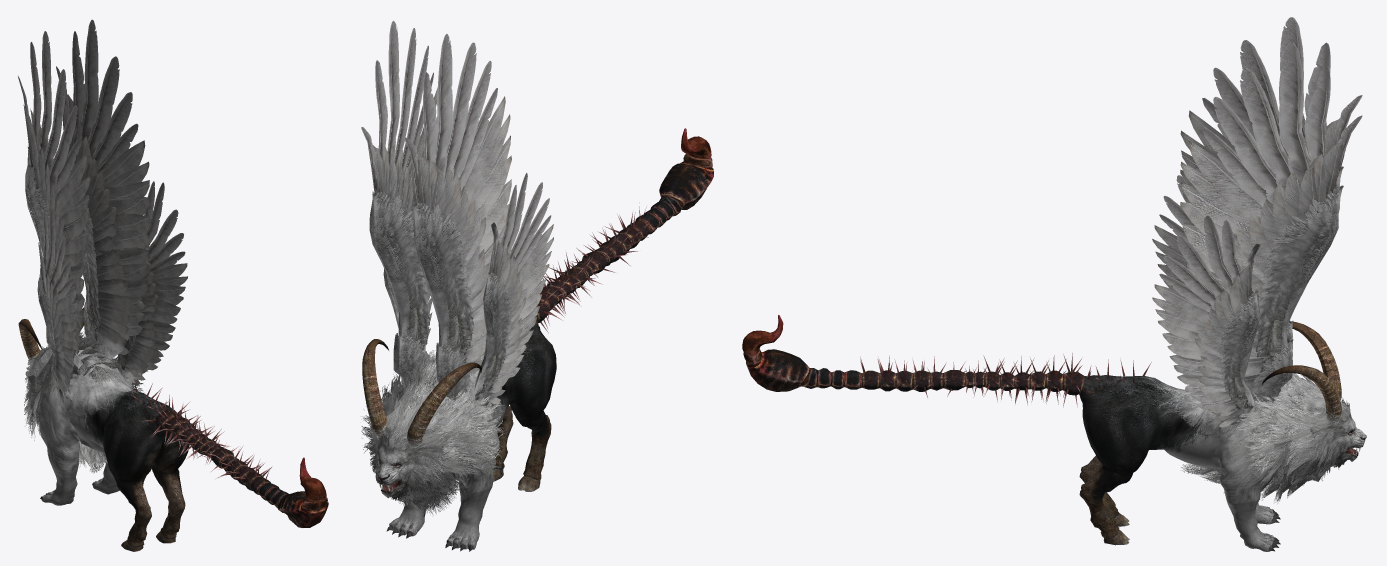
The model's file is guardian.obj.
The picture shows the model from 3 angles, left to right: view 1: azimuth 30°, elevation 25°; view 2: azimuth 150°, elevation 25°; view 3: azimuth 270°, elevation 25°; orthographic projection. The views are drawn at different scales.
Visible parts, largest first — view 1: mesh14, mesh15, mesh16, mesh0, mesh9, mesh2; view 2: mesh15, mesh14, mesh0, mesh16, mesh9, mesh1, mesh13, mesh2, mesh11, mesh4; view 3: mesh14, mesh15, mesh16, mesh0, mesh9, mesh2, mesh6, mesh1, mesh13, mesh4.
Part boxes in pixels (x1,y1,x2,y2): mesh14: (23,94,189,551); mesh15: (18,19,185,385); mesh16: (142,395,328,527); mesh0: (24,346,142,472); mesh9: (18,307,84,360); mesh2: (35,356,143,470); mesh15: (361,20,551,394); mesh14: (368,88,556,549); mesh0: (361,380,503,515); mesh16: (536,128,713,333); mesh9: (362,339,481,446); mesh1: (385,339,465,505); mesh13: (375,404,433,502); mesh2: (386,372,505,466); mesh11: (370,426,439,501); mesh4: (381,366,501,495); mesh14: (1079,110,1350,551); mesh15: (1159,17,1362,410); mesh16: (742,315,1084,407); mesh0: (1180,373,1350,502); mesh9: (1262,321,1341,421); mesh2: (1182,392,1279,480); mesh6: (1283,400,1317,482); mesh1: (1254,326,1323,480); mesh13: (1297,385,1366,466); mesh4: (1250,373,1293,490).
Bounding box in the file's own units: 2.96 × 10.65 × 12.04.
